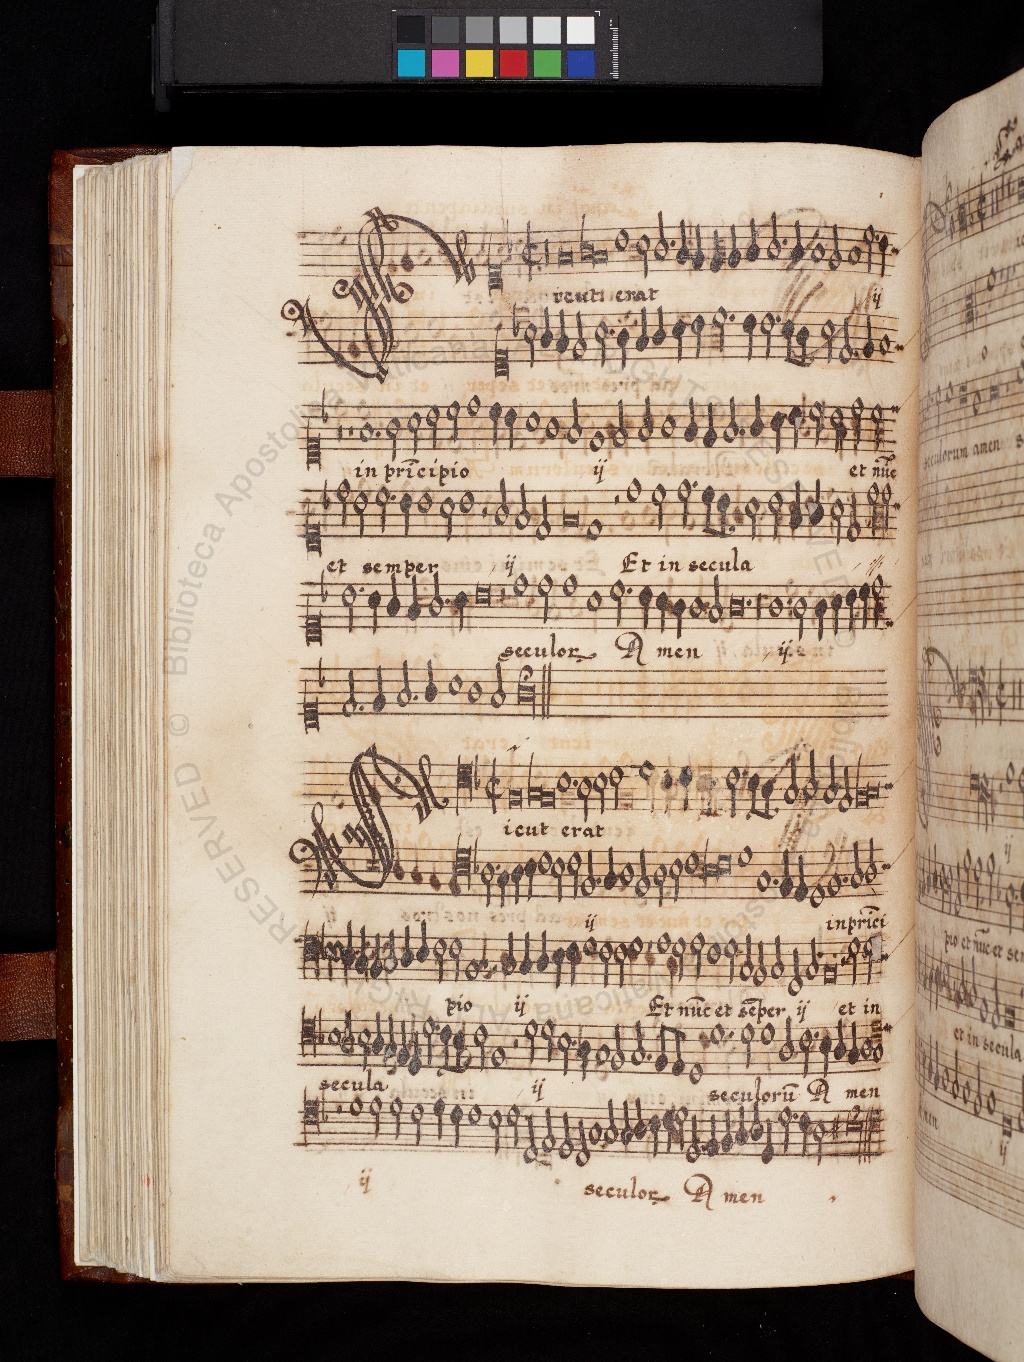breve rest: (333, 399, 346, 459)
c clef_11: (300, 425, 326, 469)
custos_3: (884, 391, 908, 424)
flat_5: (315, 384, 331, 428)
minim_3: (847, 391, 865, 459)
minim_4: (868, 397, 888, 458), (807, 393, 826, 456), (444, 393, 464, 453)
minim_5: (828, 399, 848, 462), (424, 399, 443, 456)
minim_6: (406, 406, 424, 462)
minim_7: (382, 410, 402, 467)
minim_8: (632, 391, 656, 454), (564, 391, 585, 449), (719, 388, 738, 449)
minim_9: (612, 394, 631, 456)
point: (733, 420, 749, 443), (368, 423, 384, 444)
semibreve rest: (344, 401, 357, 457)
semibreve_10: (586, 424, 608, 459)
semibreve_3: (463, 387, 485, 424)
semibreve_6: (521, 402, 543, 440)
semibreve_7: (656, 405, 679, 448), (542, 409, 563, 446)
semibreve_8: (355, 415, 375, 451)
semiminim_4: (487, 394, 504, 453)
semiminim_5: (786, 397, 802, 457), (503, 399, 520, 457)
semiminim_6: (769, 402, 786, 460)
semiminim_7: (746, 387, 766, 448)
semiminim_8: (683, 391, 702, 452)
semiminim_9: (701, 394, 719, 455)
